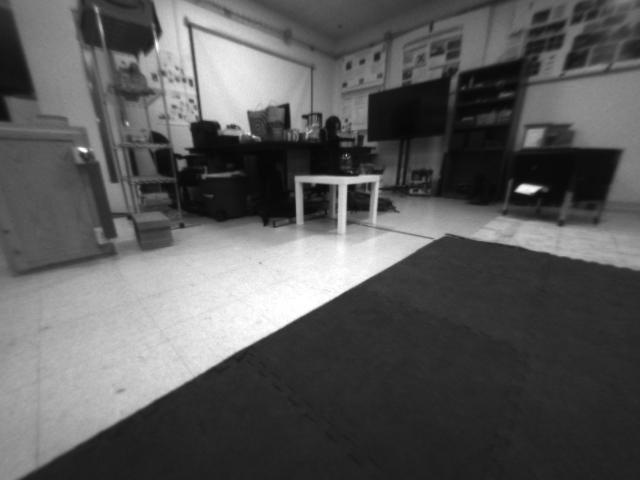coffee_pot: (330, 136, 361, 177)
